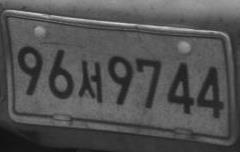4: (166, 61, 195, 114), (196, 65, 224, 119)
6: (48, 49, 75, 99)
7: (135, 57, 162, 109)
9: (16, 44, 43, 96), (107, 55, 133, 105)
서: (78, 60, 103, 103)
